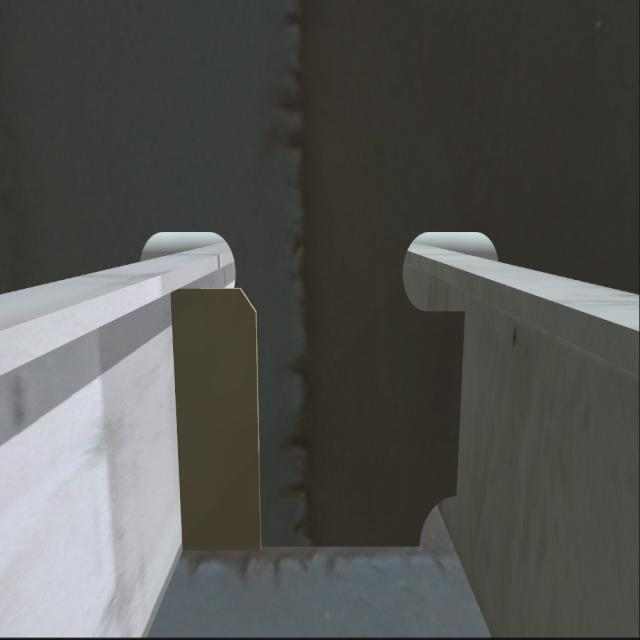fillet_hole: (421, 491, 457, 553)
fillet_yong_jeop_jang: (182, 534, 430, 558)
longi_yong_jeop_jang: (442, 303, 471, 499), (173, 290, 187, 568)
plate_CP03: (177, 285, 260, 562)
